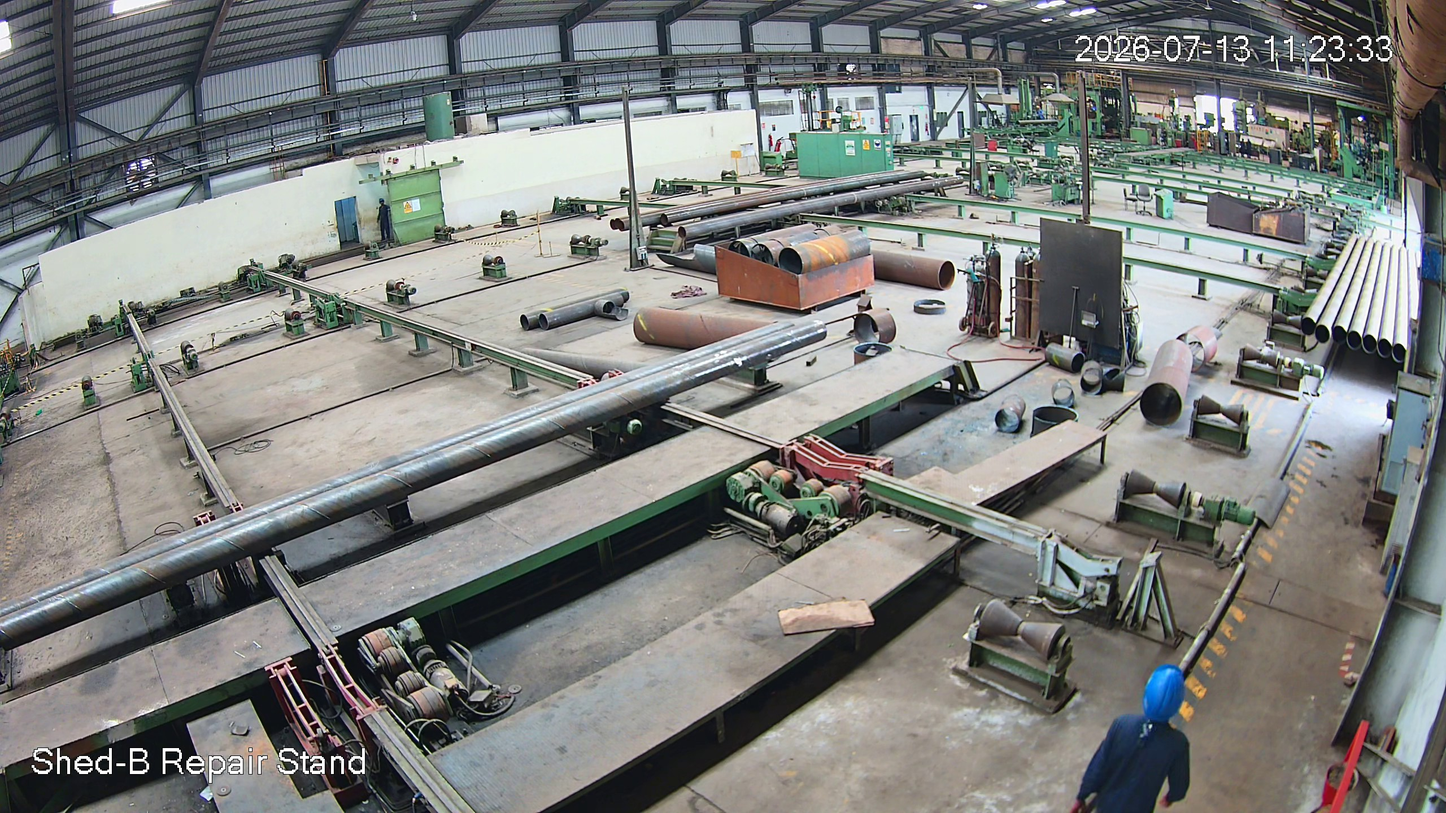Helmet: (1118, 652, 1176, 734)
Person: (1076, 659, 1214, 813)
